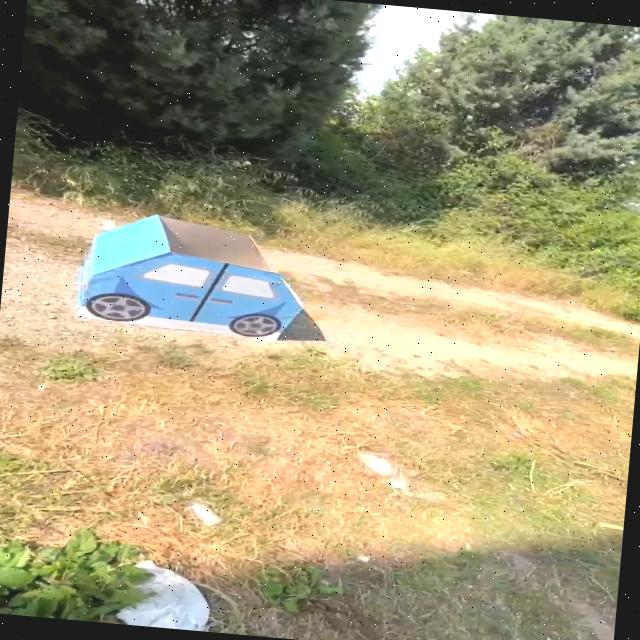blue_car: (54, 200, 325, 370)
